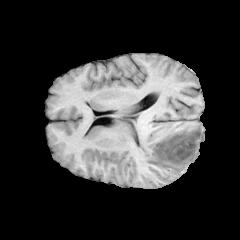glioma: (141, 126, 202, 173)
